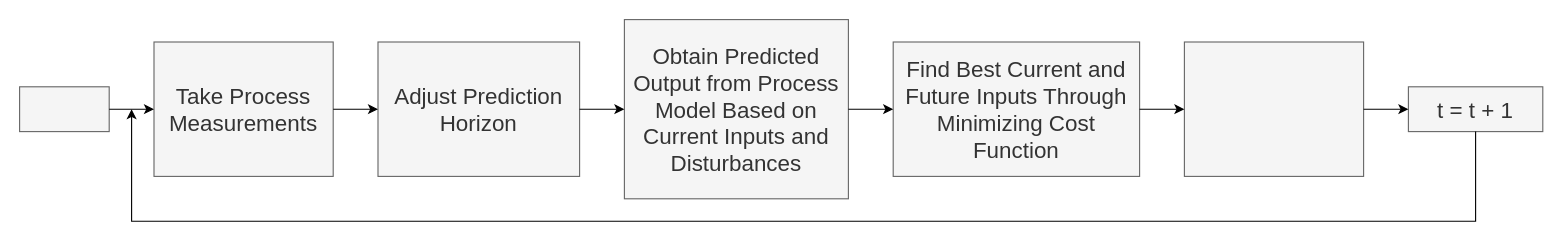
Image size: 1562x250. Some labels were removed from this diagram. The shapes that lost their labels are listed below. From the top down, each one's centre as x and y in pixels, then its label:
the point at 63,109: t = 0
the point at 1273,108: Implement Best Current Input
